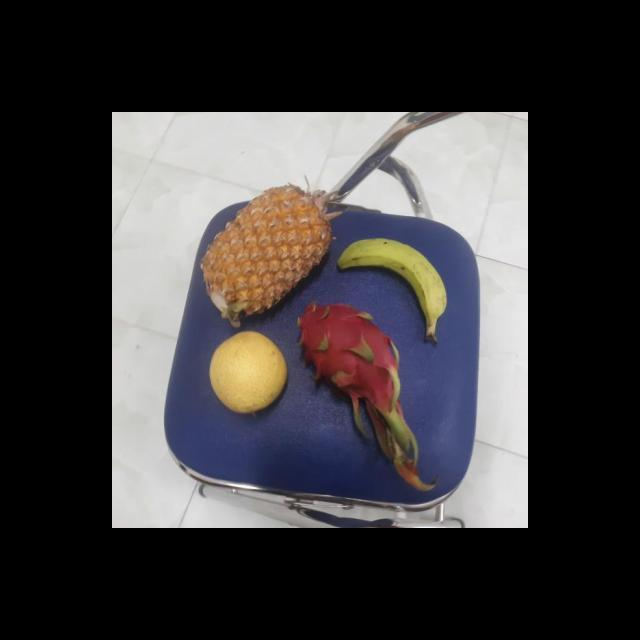banana: (332, 236, 446, 336)
pear: (205, 334, 288, 414)
pineapple: (198, 188, 332, 322)
pitaya: (290, 302, 404, 412)
